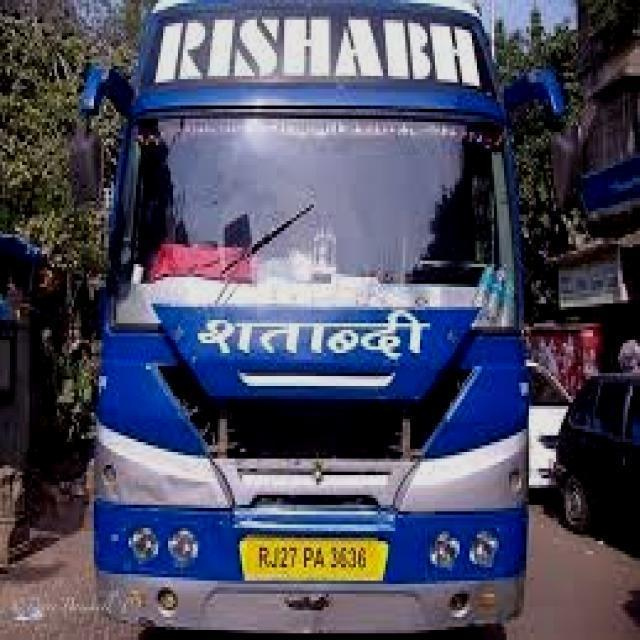Bus: (48, 0, 599, 640)
